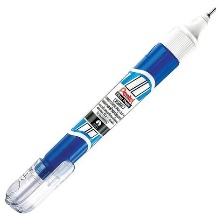correction_fluid: (3, 4, 219, 216)
